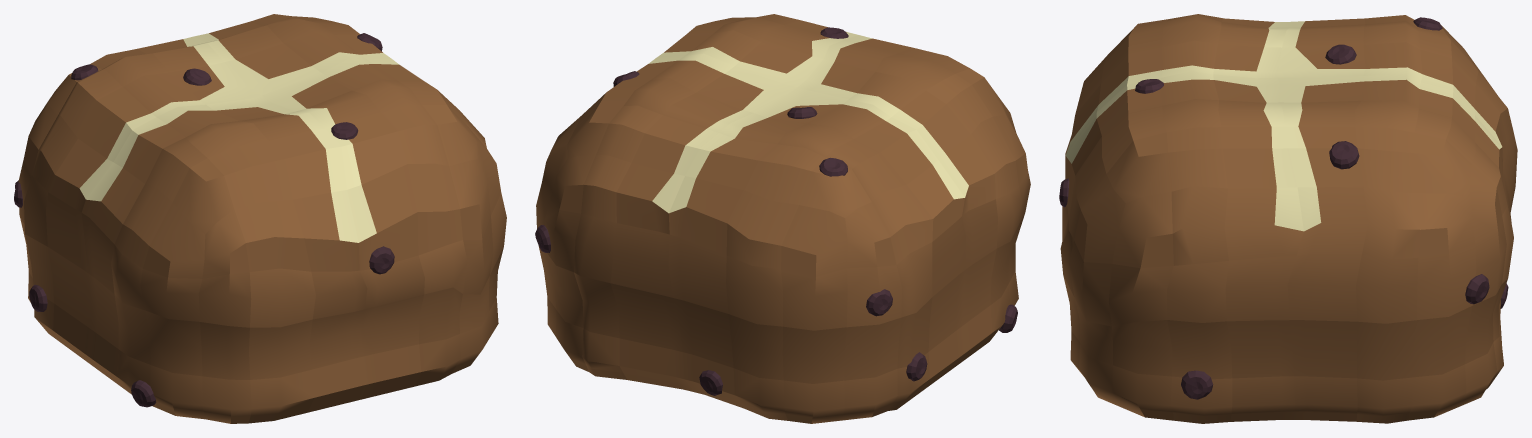
File: hot_cross_bun.fbx
3 renders of one model, left to right at view 1: azimuth 30°, elevation 25°; view 2: azimuth 150°, elevation 25°; view 3: azimuth 270°, elevation 25°, orthographic. The views are drawn at different scales.
Parts seen in each view (by area): view 1: bun, raisin7, raisin8; view 2: bun, raisin9, raisin4; view 3: bun, raisin6, raisin1, raisin5, raisin3.
Part boxes in pixels (x1,y1,x2,y2): bun: [18, 14, 506, 423]; raisin7: [369, 246, 394, 274]; raisin8: [131, 380, 156, 407]; bun: [536, 14, 1030, 423]; raisin9: [866, 289, 892, 316]; raisin4: [699, 370, 722, 395]; bun: [1060, 14, 1517, 423]; raisin6: [1181, 370, 1213, 399]; raisin1: [1329, 141, 1359, 169]; raisin5: [1465, 274, 1489, 304]; raisin3: [1325, 44, 1356, 64].
Size of the model in its own units: 402 by 273 by 399.
